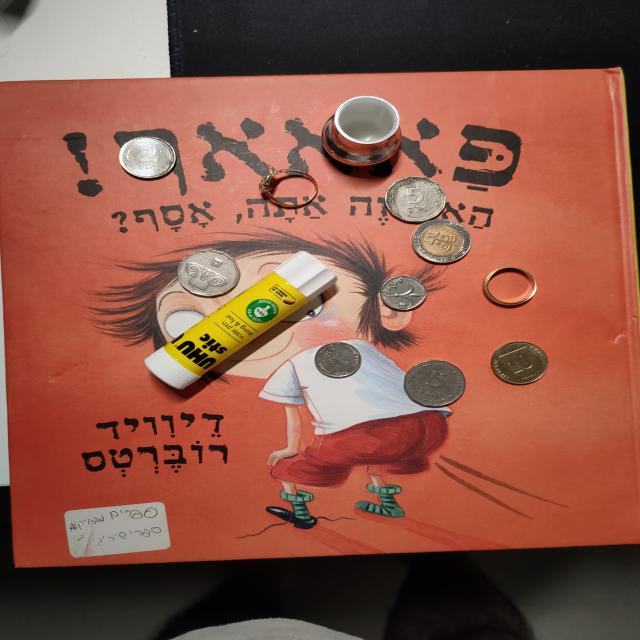1-shekel: (312, 342, 366, 385), (378, 276, 426, 315)
10-shekel: (407, 218, 477, 268)
2-shekel: (118, 138, 177, 184)
5-shekel: (403, 359, 470, 412), (380, 176, 451, 225), (173, 248, 241, 295)
